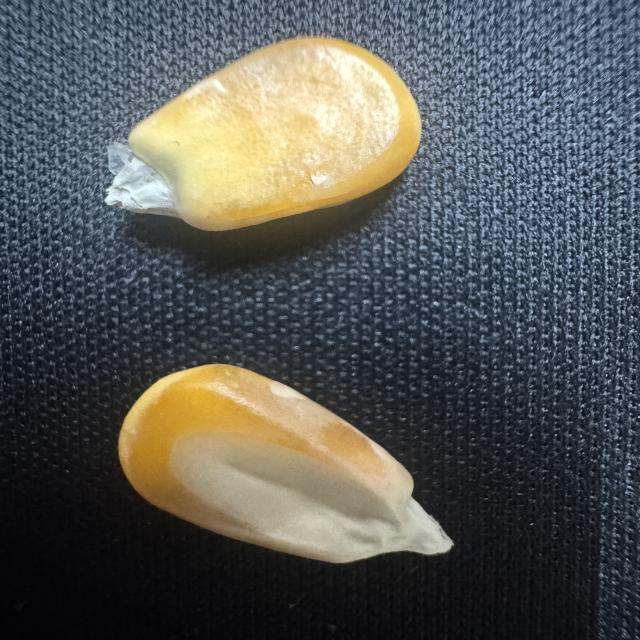Good-Seed: (112, 360, 458, 570), (97, 31, 426, 238)
